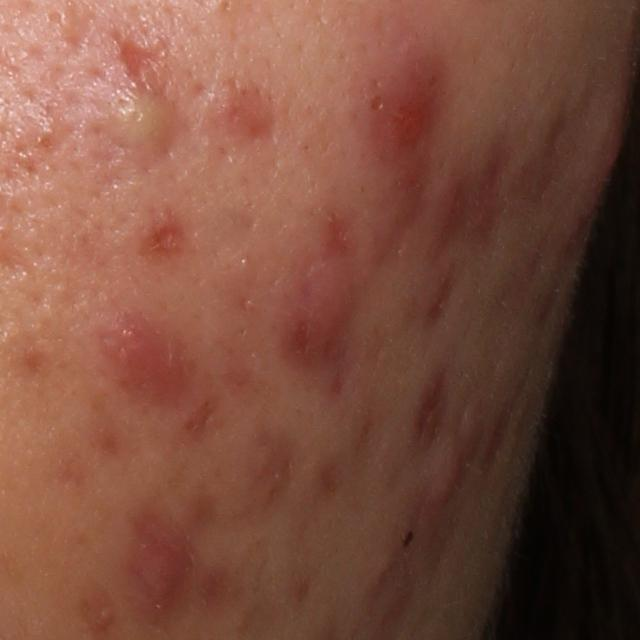atrophic_scar: (111, 25, 165, 86)
nevus: (401, 527, 414, 552)
papule: (574, 89, 631, 215), (112, 317, 186, 396), (133, 541, 189, 609), (425, 444, 474, 507)
